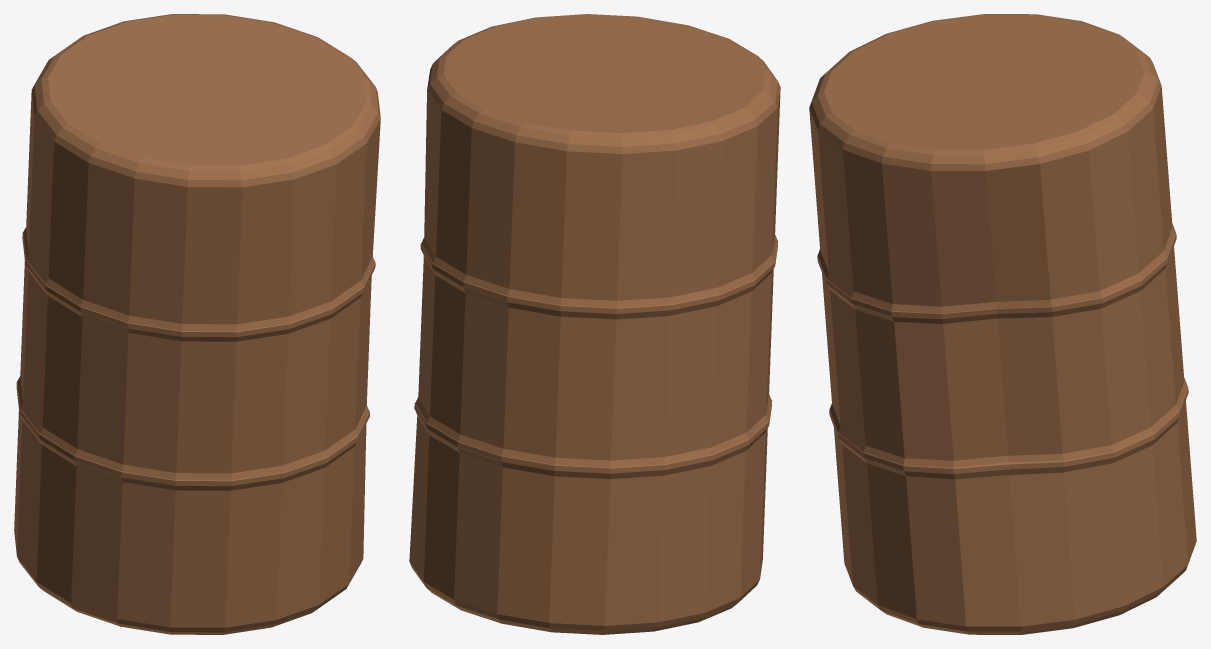
File: SM_DST_Prop_Barrel_Metal_Dented.fbx
3 views of the same model, side by side, from view 1: azimuth 30°, elevation 25°; view 2: azimuth 150°, elevation 25°; view 3: azimuth 270°, elevation 25° (orthographic).
Parts seen in each view (by area): view 1: SM_DST_Prop_Barrel_Metal_Dented.002; view 2: SM_DST_Prop_Barrel_Metal_Dented.002; view 3: SM_DST_Prop_Barrel_Metal_Dented.002.
Boxes of the visible parts, box(x1,y1,x2,y2) form: SM_DST_Prop_Barrel_Metal_Dented.002: box(14, 14, 380, 634); SM_DST_Prop_Barrel_Metal_Dented.002: box(409, 14, 780, 634); SM_DST_Prop_Barrel_Metal_Dented.002: box(809, 14, 1196, 634).
Bounding box in the file's own units: 0.5846 × 0.9146 × 0.6363.
